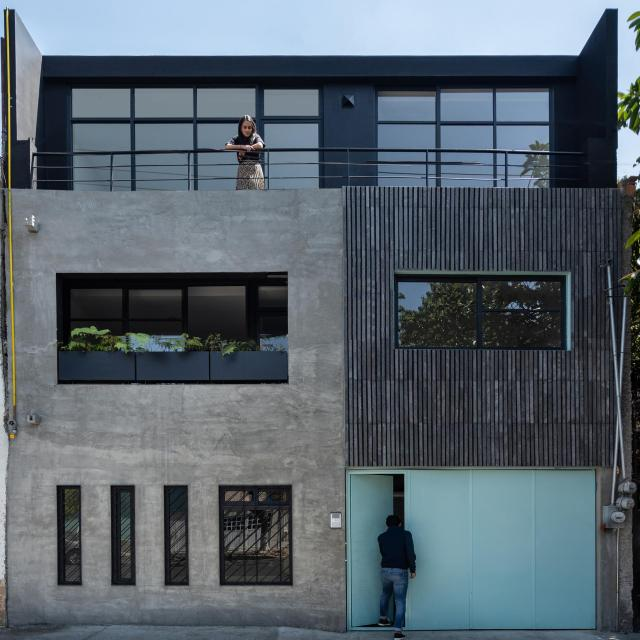Railing: (32, 150, 584, 187)
door: (349, 471, 601, 631)
wall: (5, 7, 633, 628)
windows: (64, 76, 317, 178), (380, 81, 552, 179), (66, 286, 283, 348), (398, 274, 566, 344), (220, 488, 287, 584), (166, 486, 186, 582), (60, 489, 78, 582), (112, 489, 129, 581)
